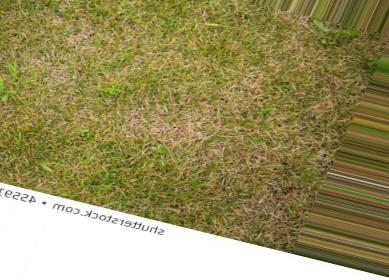patch: (113, 104, 216, 140), (213, 163, 269, 214), (83, 30, 161, 63), (61, 149, 95, 179), (40, 57, 62, 81)
